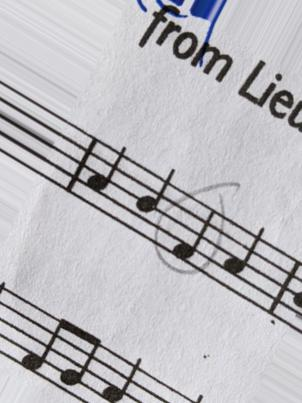A: (221, 218, 267, 310), (84, 133, 127, 226), (99, 348, 154, 402)
B: (132, 161, 178, 260)
F: (172, 188, 217, 283)
